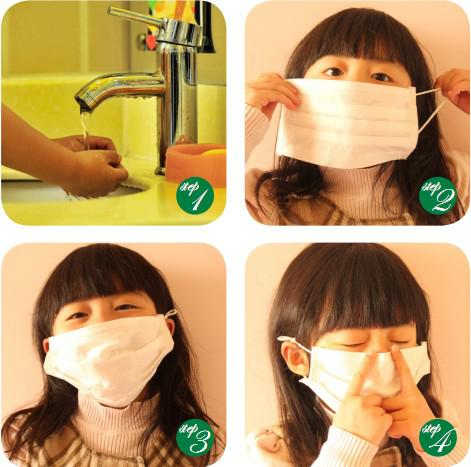NONE: (300, 55, 428, 168)
OK: (50, 283, 167, 400), (327, 315, 432, 420)
